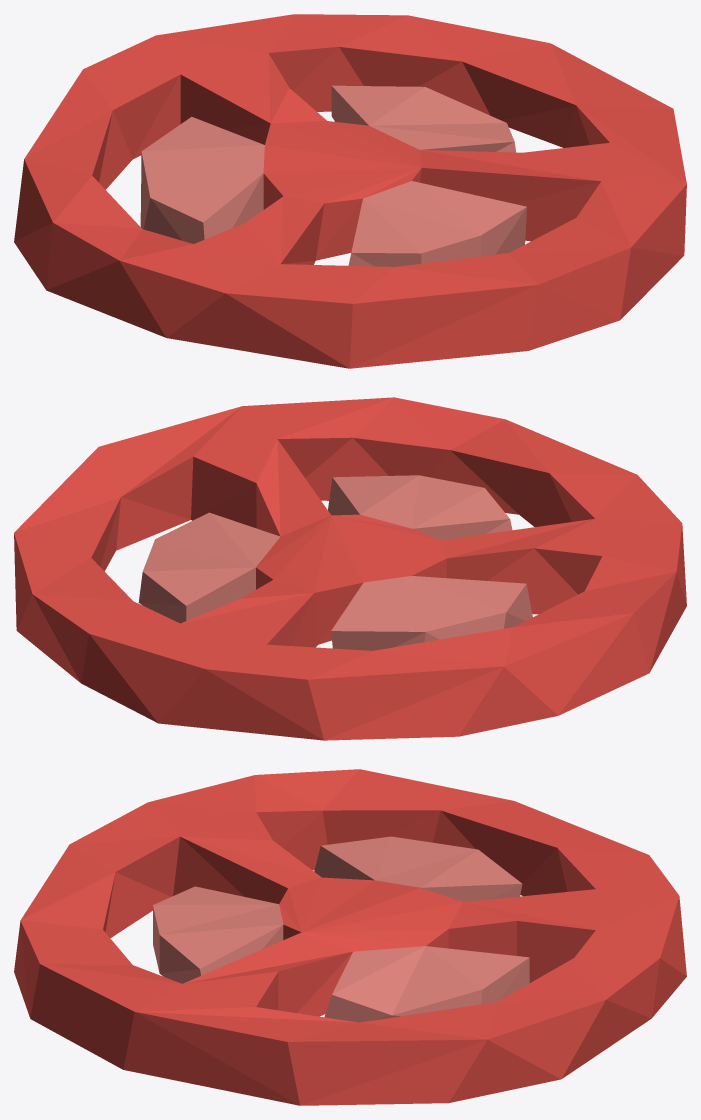
The model's file is tomato.fbx.
3 views of the same model, one above another, from view 1: azimuth 30°, elevation 25°; view 2: azimuth 150°, elevation 25°; view 3: azimuth 270°, elevation 25° (orthographic). The views are drawn at different scales.
Visible parts, largest first — view 1: Tomato; view 2: Tomato; view 3: Tomato.
Part boxes in pixels (x1,y1,x2,y2): Tomato: (14,14,686,368); Tomato: (14,397,686,740); Tomato: (14,769,686,1105).
Bounding box in the file's own units: 93.18 × 10.35 × 94.41.
